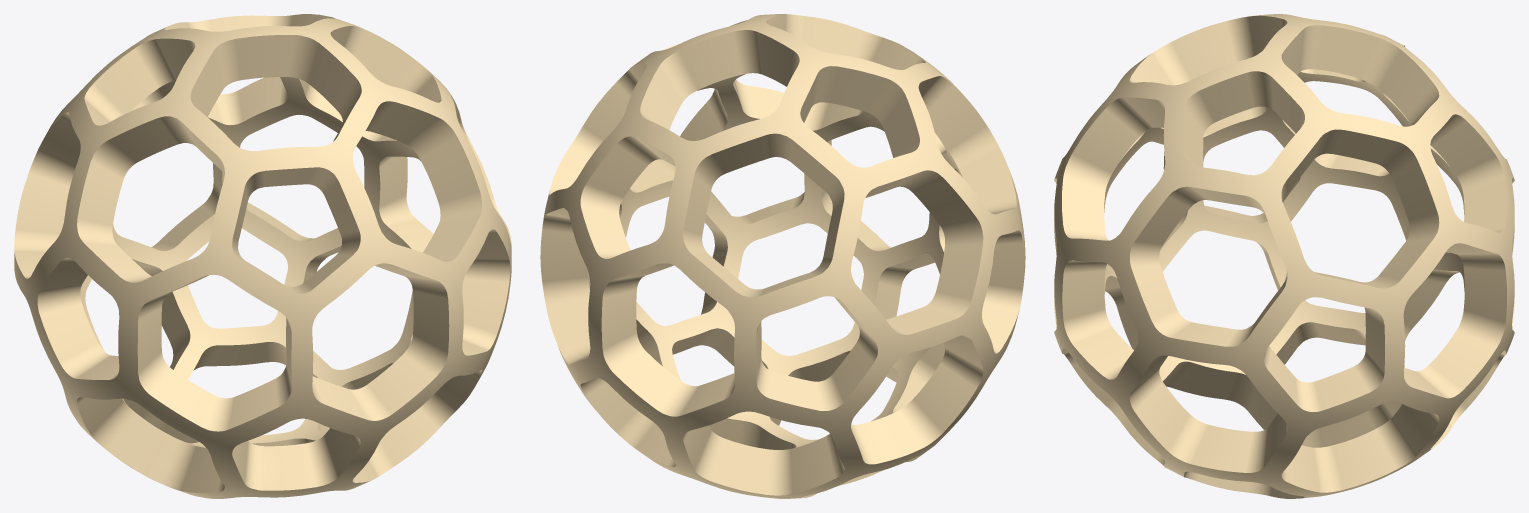
Rendered from outer_sphere.glb.
The picture shows the model from 3 angles, left to right: view 1: azimuth 30°, elevation 25°; view 2: azimuth 150°, elevation 25°; view 3: azimuth 270°, elevation 25°; orthographic projection. The views are drawn at different scales.
Parts seen in each view (by area): view 1: Outer Layer; view 2: Outer Layer; view 3: Outer Layer.
Boxes of the visible parts, bbox=[...] form: Outer Layer: bbox=[14, 14, 511, 498]; Outer Layer: bbox=[540, 14, 1025, 498]; Outer Layer: bbox=[1054, 14, 1514, 498].
Size of the model in its own units: 0.052 by 0.0522 by 0.0495.
